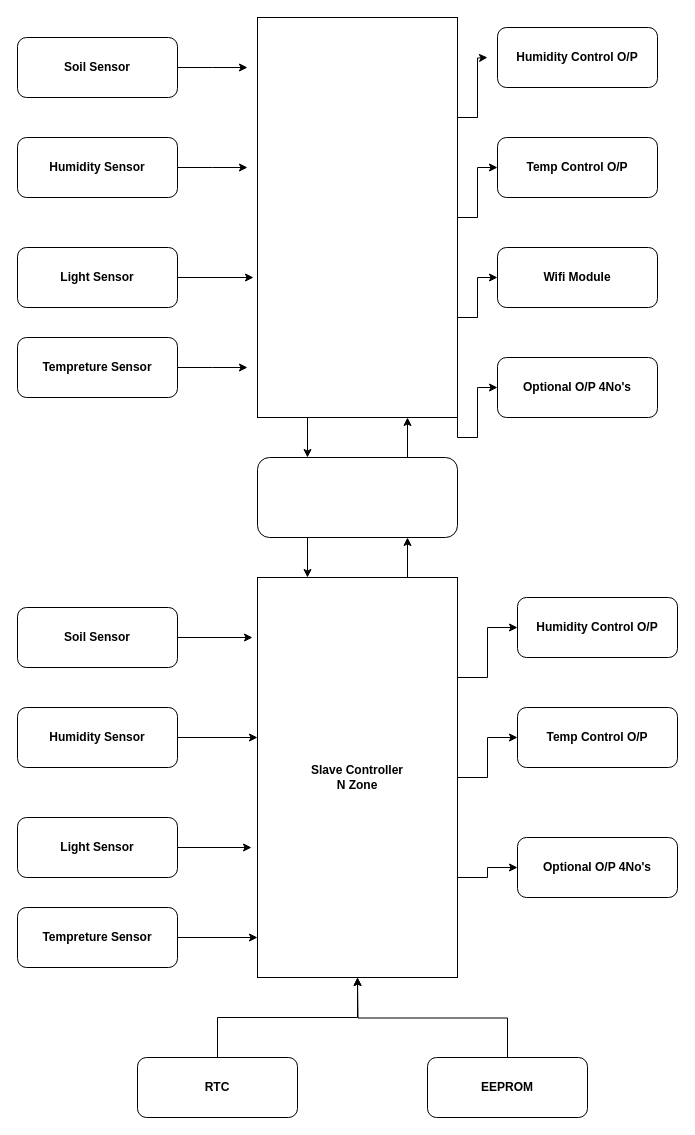
Some shapes in this 695 by 1135 pixel diagram are drawn without their labels. The box of each missing label's shape, as (x1, y1, x2, y2) in pixels:
Main Master Controller 1st Zone: (256, 16, 458, 418)
UART Modbus RTU: (256, 456, 458, 538)
